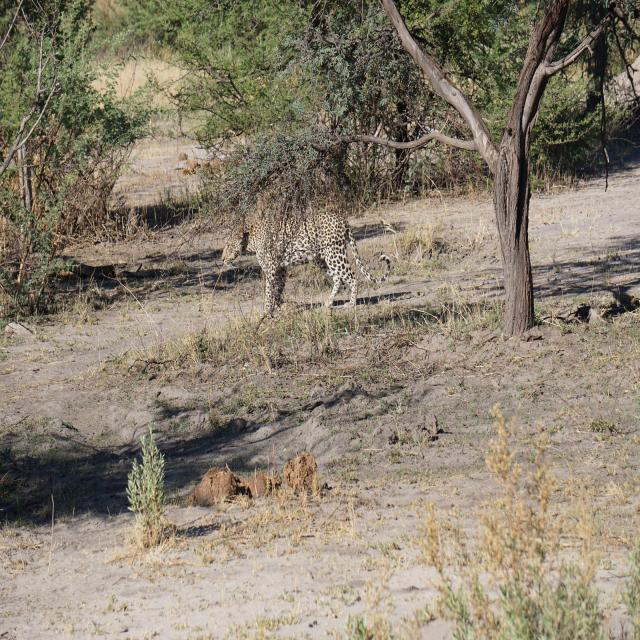Leopard: (241, 178, 375, 307)
